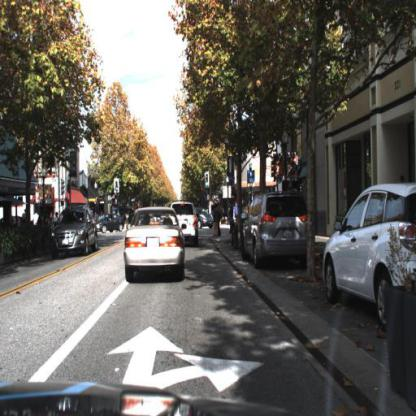car: (324, 183, 416, 332), (244, 192, 308, 271), (125, 206, 189, 284), (50, 205, 99, 265), (50, 203, 101, 259), (175, 200, 202, 251), (98, 213, 127, 233), (198, 204, 216, 231)
pedestrian: (213, 203, 221, 237), (228, 202, 235, 238), (216, 202, 221, 238), (235, 196, 240, 225)
trafficLight-Green: (203, 168, 212, 194), (204, 172, 212, 188), (114, 178, 120, 195)
